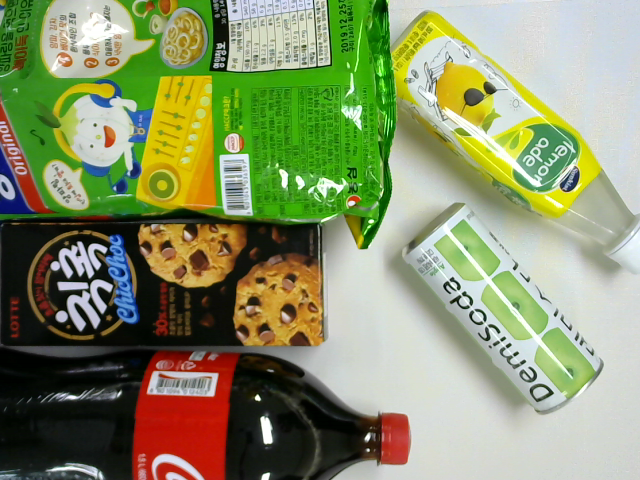Chicchok_Original_2400: (1, 214, 329, 349)
Coca_Cola_1.5L: (1, 350, 412, 480)
Demisoda_Apple_Can_250ml: (398, 201, 606, 417)
Oninon_Ring: (1, 1, 396, 252)
Sunkist_Lemonaid_Pet: (387, 8, 640, 274)
